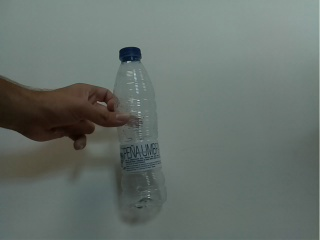botella plastico: (111, 45, 170, 213)
